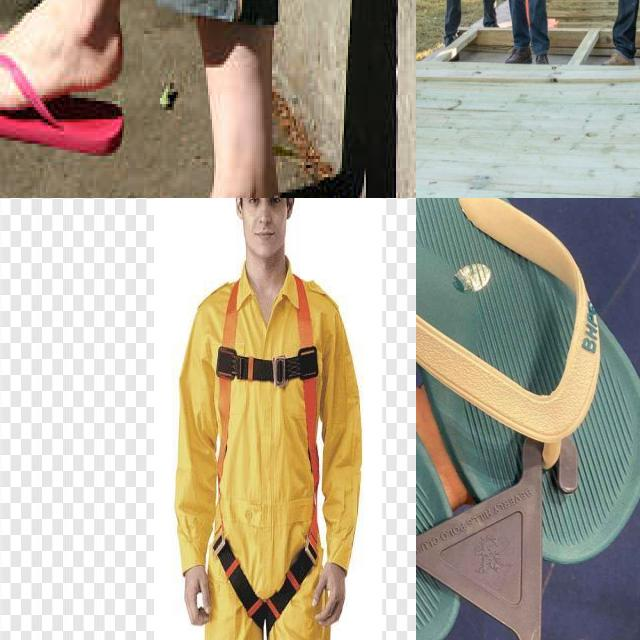Harness: (213, 276, 318, 632)
Sandals: (416, 198, 640, 640), (0, 13, 124, 158)
